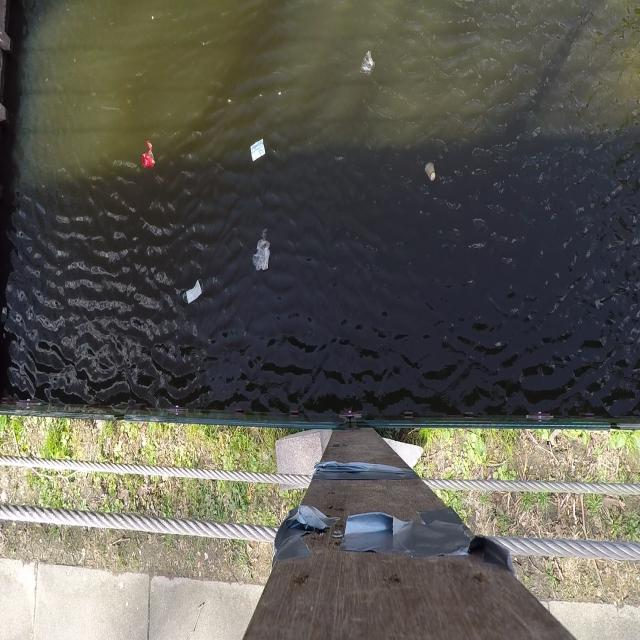Non plastique: (182, 273, 206, 311), (423, 158, 441, 187)
Sac plastique: (252, 225, 274, 274), (358, 43, 379, 78)
